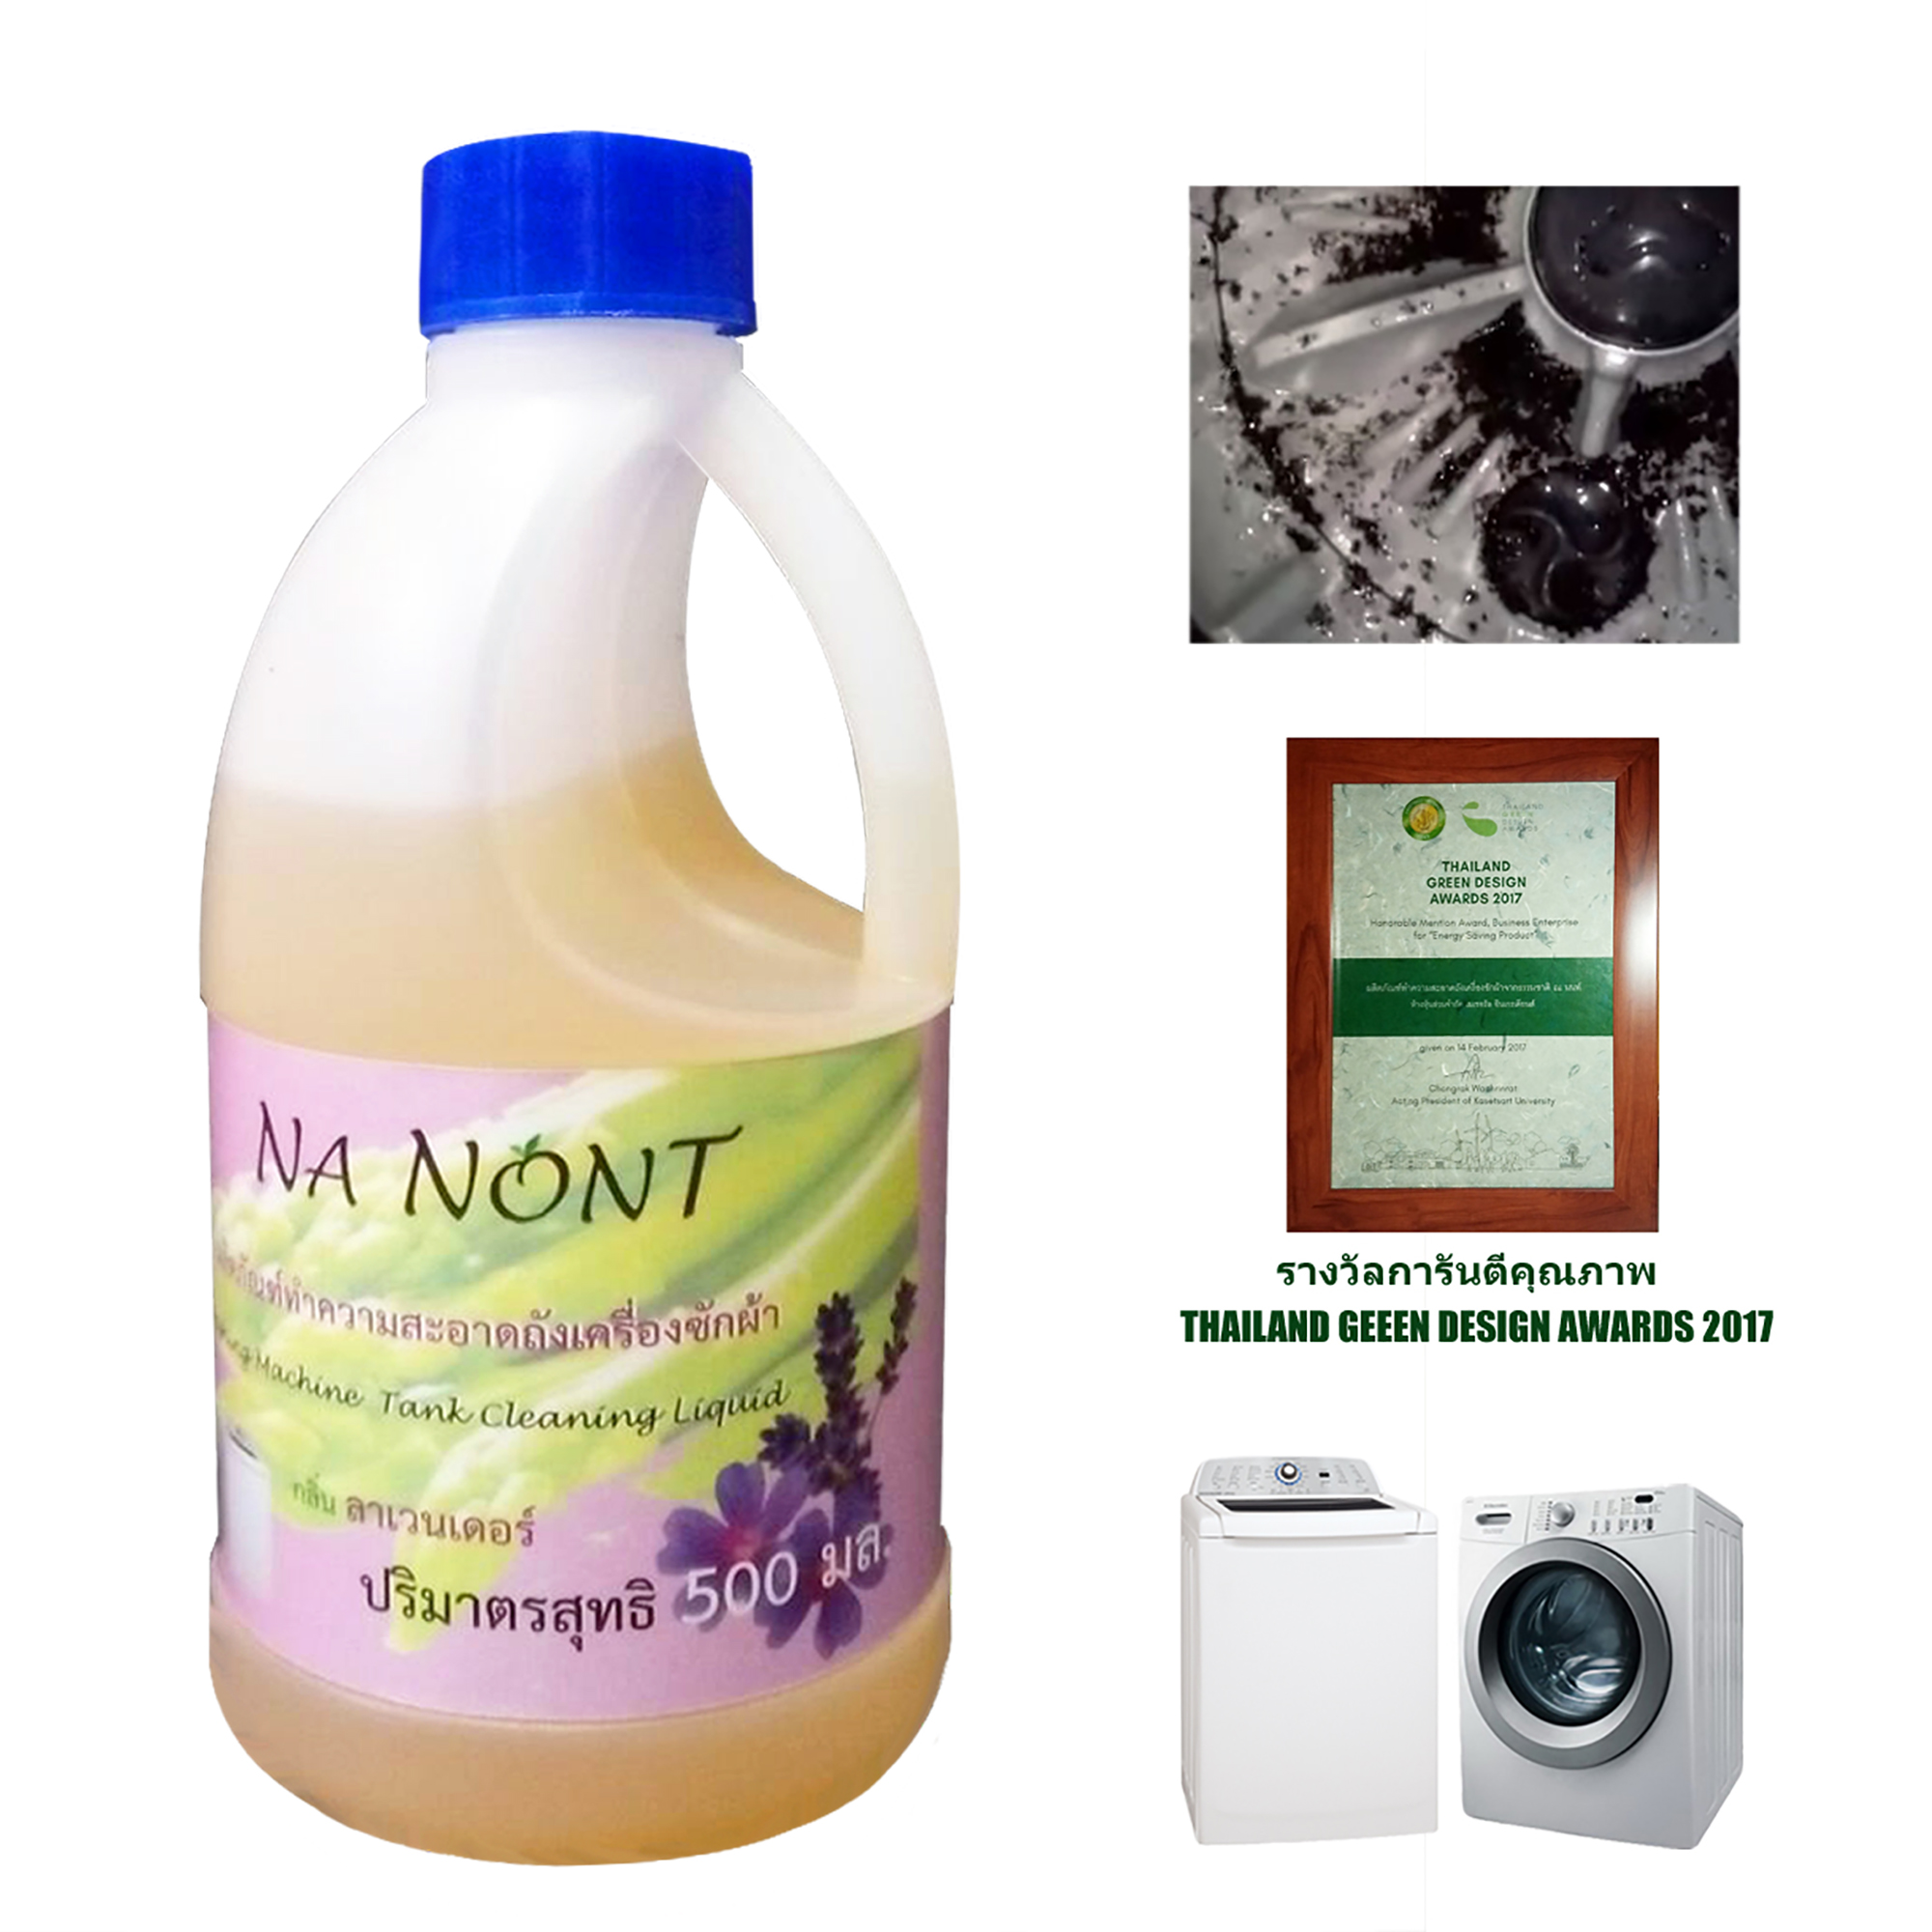Cleaning_solution: (173, 106, 978, 1881)
